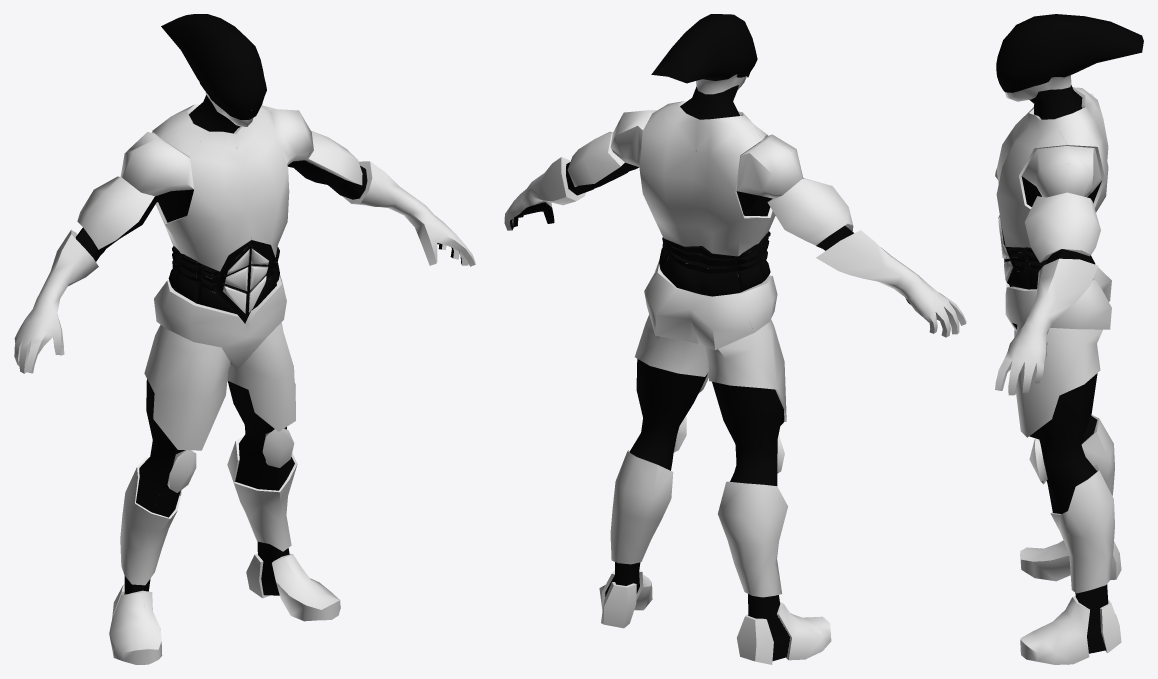
The model's file is main char with tex.obj.
3 views of the same model, side by side, from view 1: azimuth 30°, elevation 25°; view 2: azimuth 150°, elevation 25°; view 3: azimuth 270°, elevation 25° (orthographic).
Parts seen in each view (by area): view 1: Medium; view 2: Medium; view 3: Medium.
Part boxes in pixels (x1,y1,x2,y2): Medium: (14, 14, 475, 664); Medium: (504, 14, 966, 664); Medium: (995, 14, 1143, 664).
Size of the model in its own units: 6.32 by 8.17 by 1.84.
Materials: 1 (1 with a texture image).
